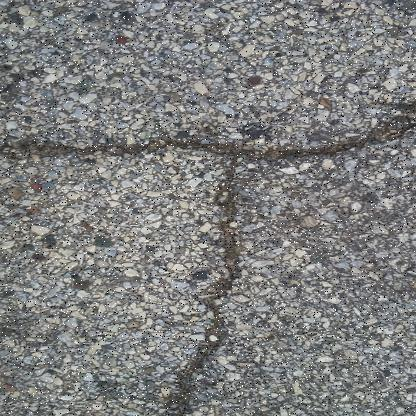Cracks: (142, 126, 261, 416), (0, 110, 416, 165)
